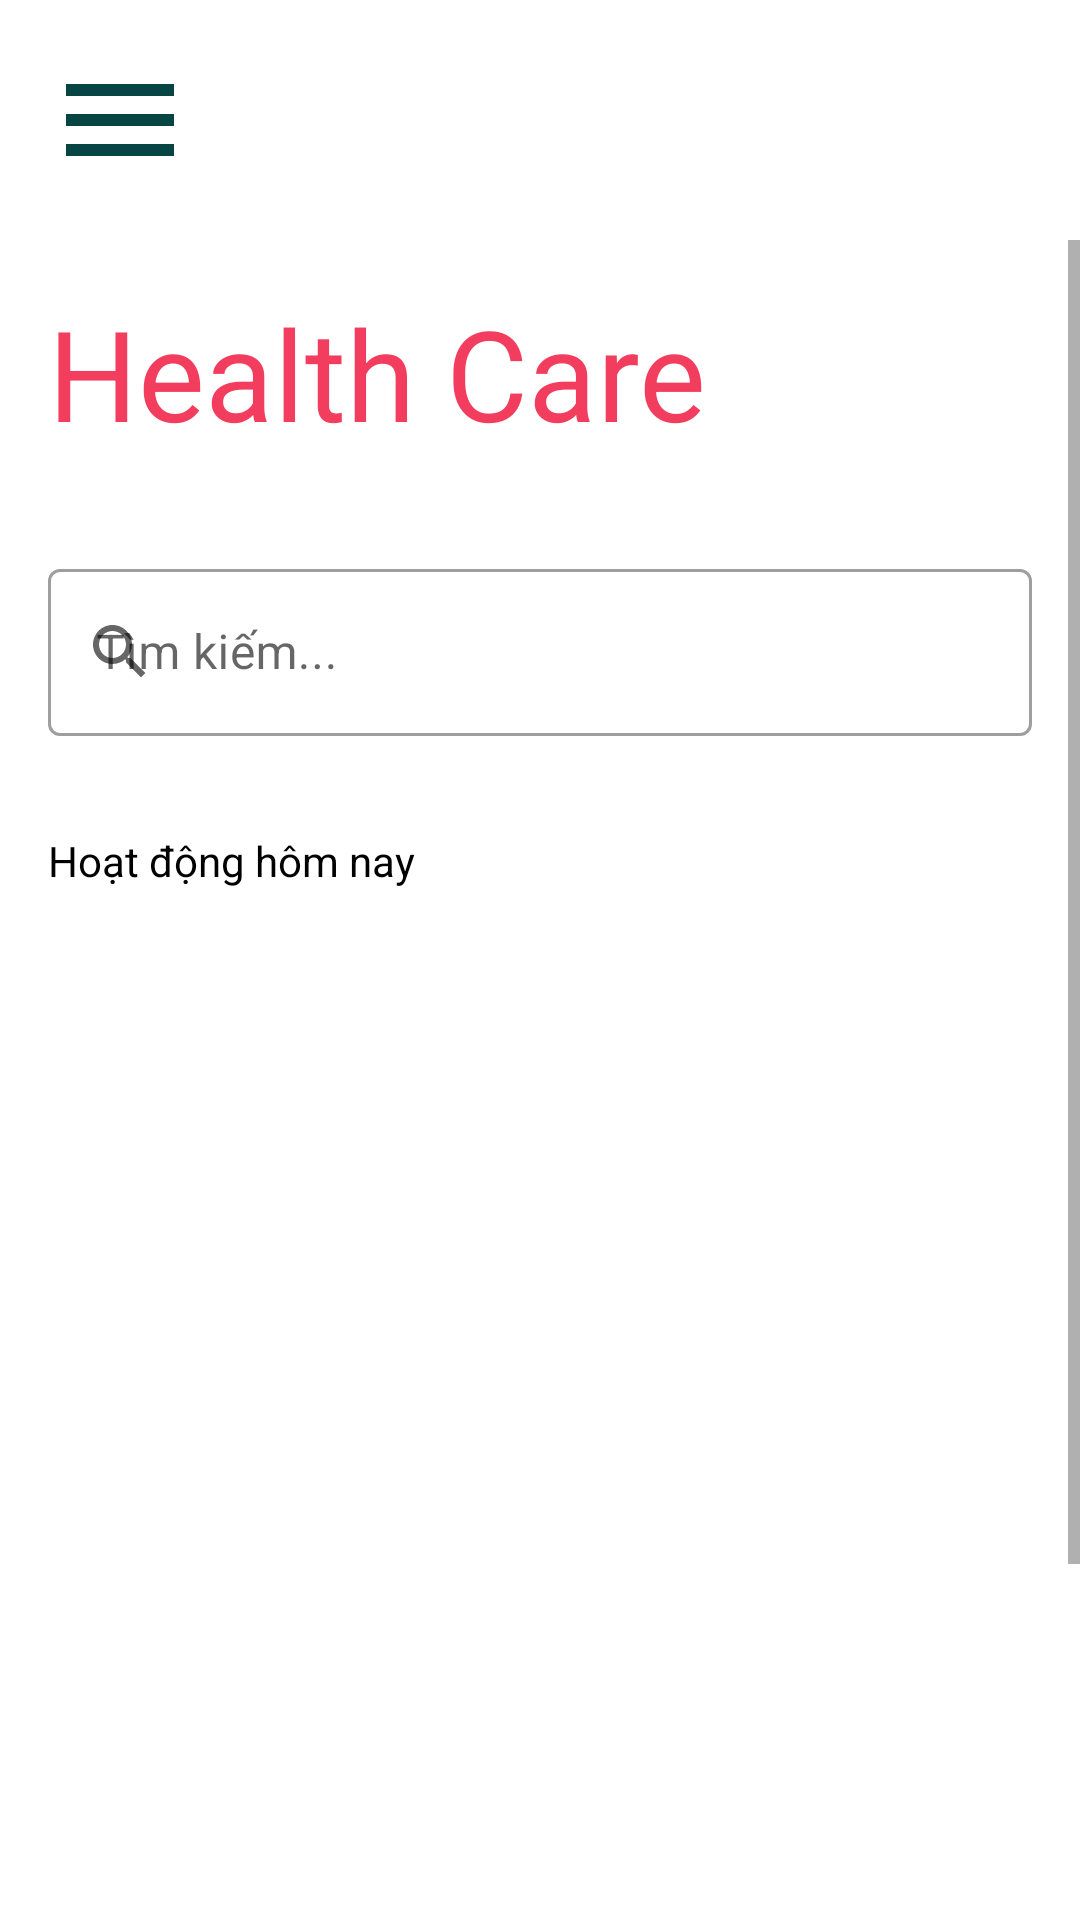

Point at icon controls on the screen. Image size 1080 x 1920, points as (x=x, y=y).
menu: (x=120, y=120)
